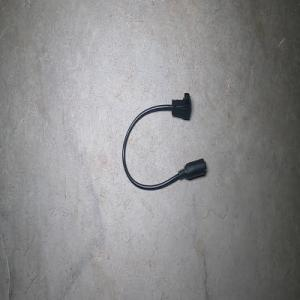Wire: (122, 92, 206, 190)
